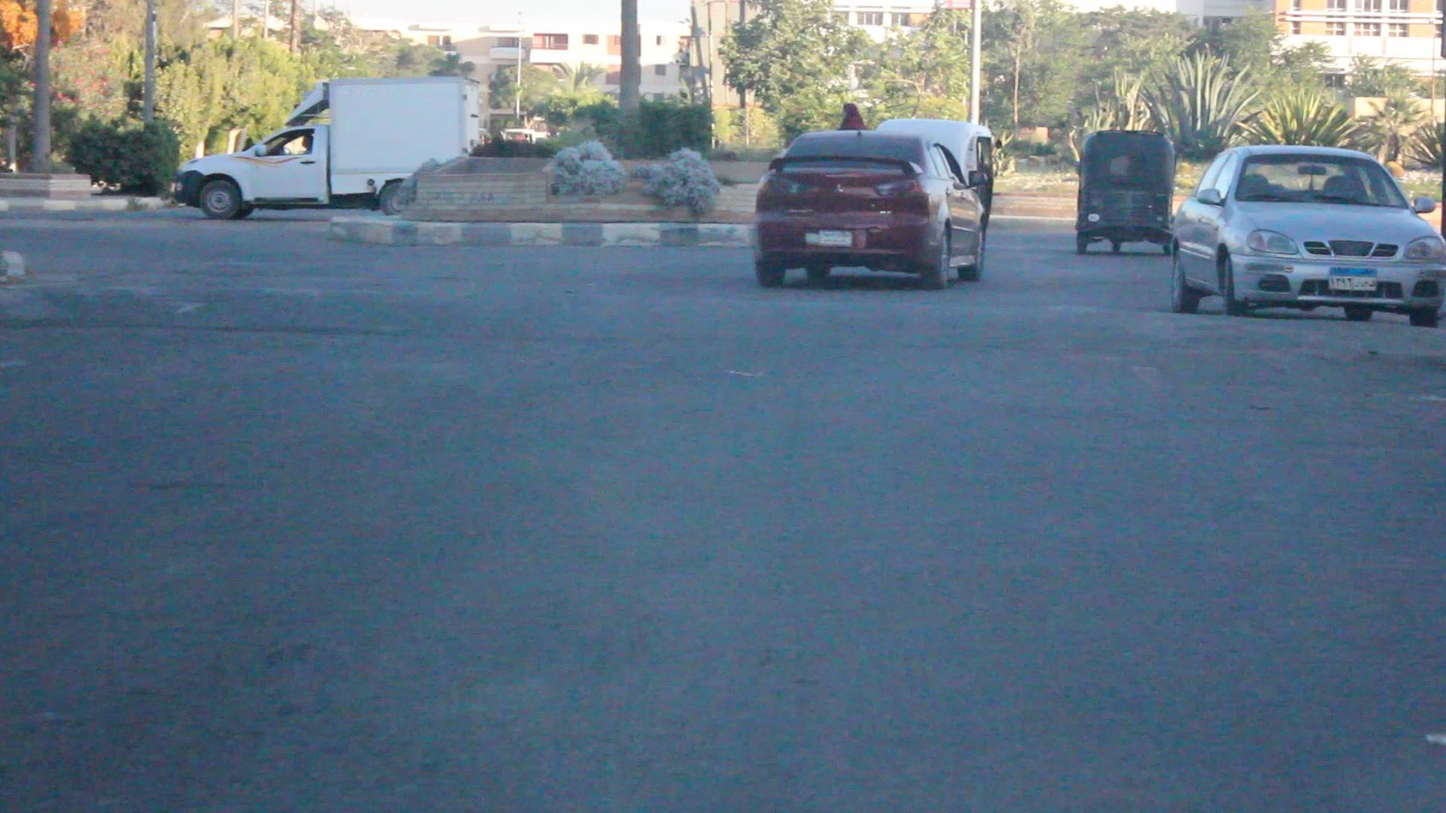Bump: (4, 282, 1445, 355)
